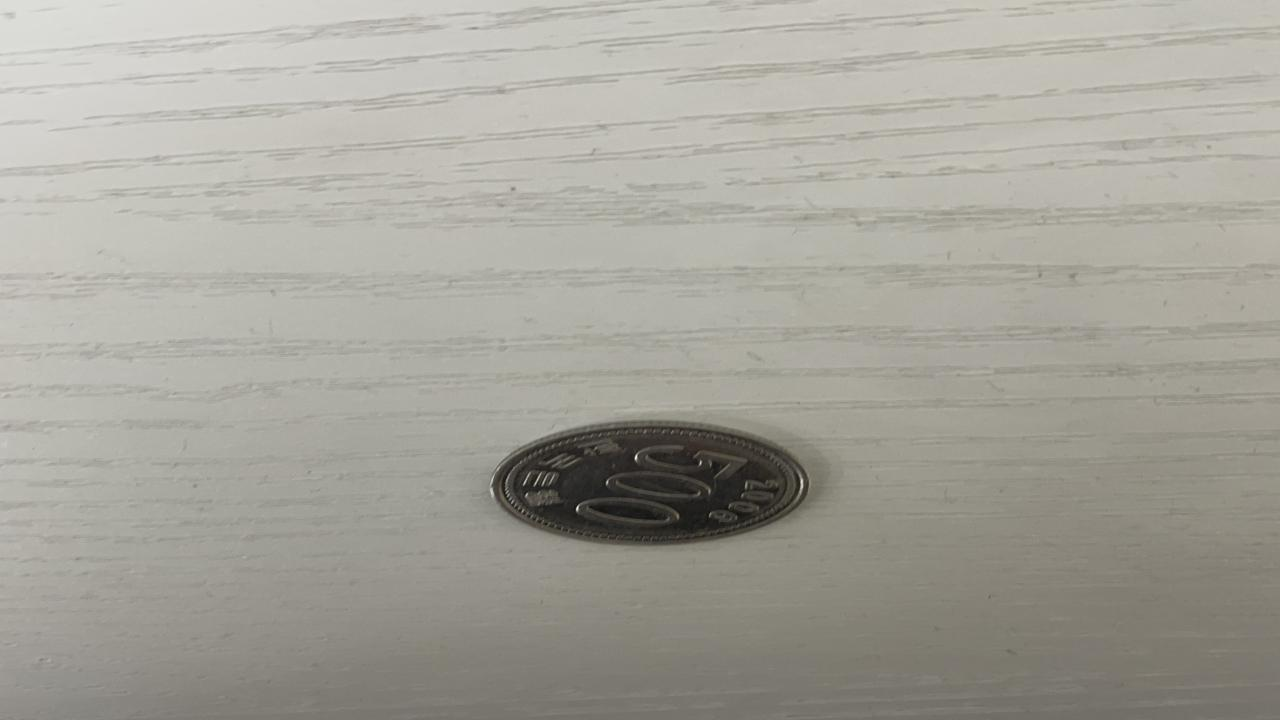coin: (482, 419, 814, 546)
